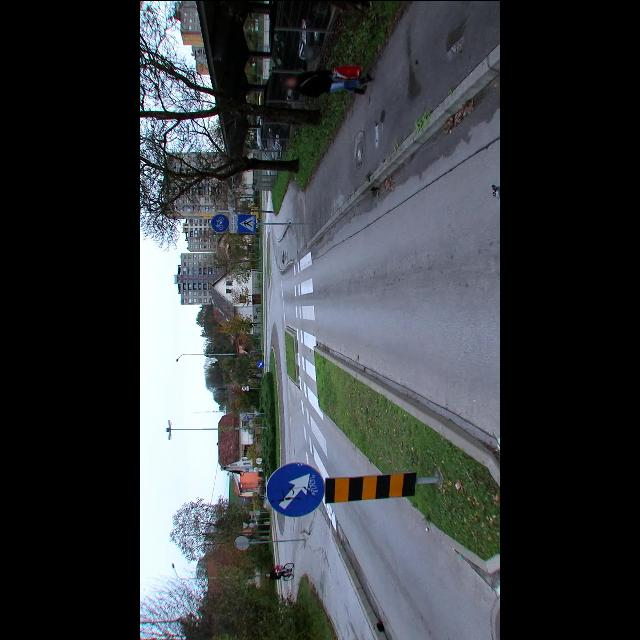Rectangle: (232, 212, 238, 232)
Round: (267, 462, 325, 514), (210, 213, 228, 231)
Squared: (237, 212, 256, 232)
